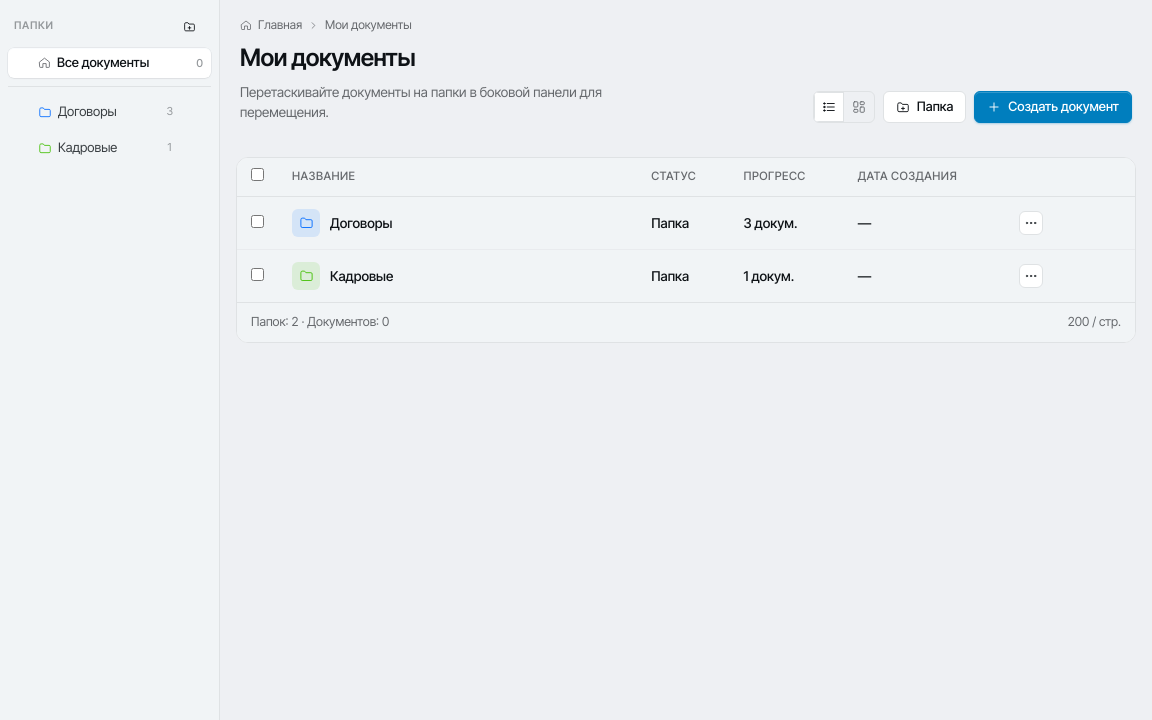
Test: DocumentsPage folder tree › opens create folder modal on "Новая папка" button click
Click the button titled "Создать папку" at [190, 26], box [174,14,205,38]
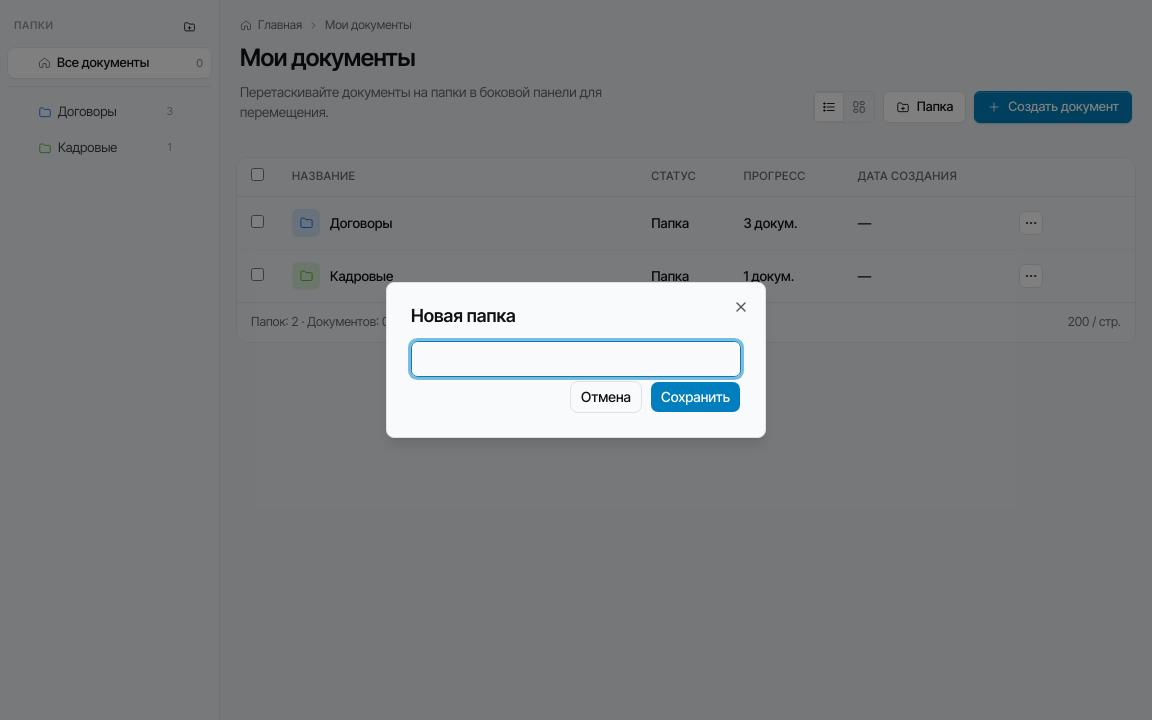
Check: the heading "Новая папка" is shown, box [411,305,516,326]
